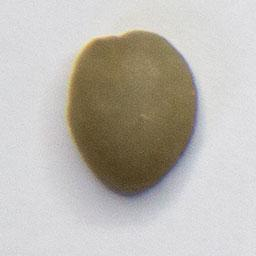premium: (65, 26, 203, 200)
